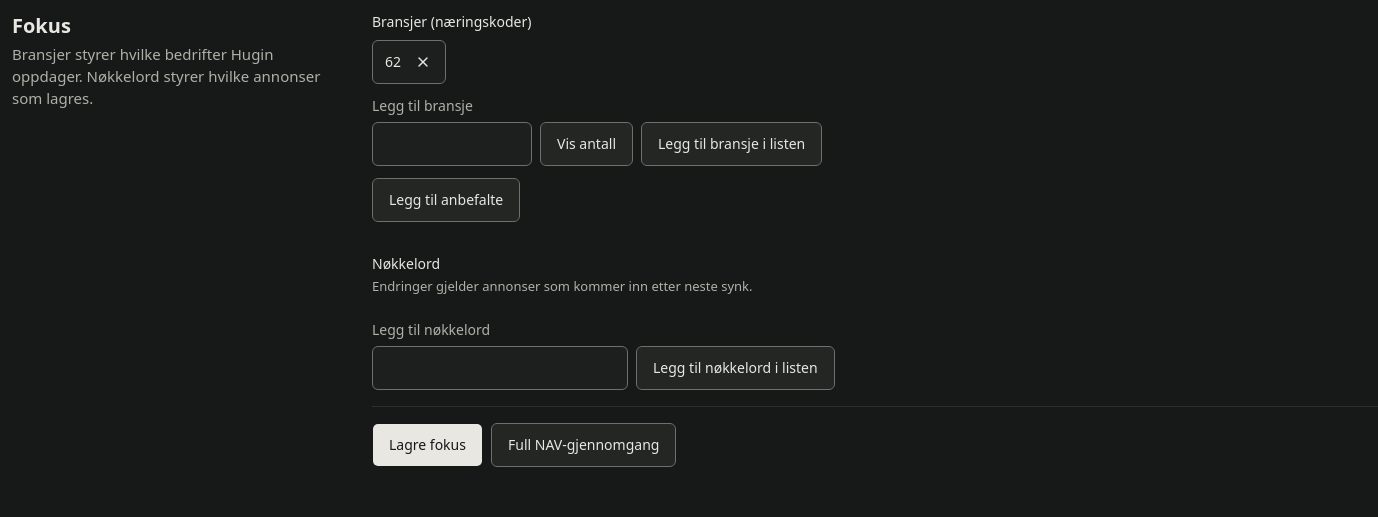
FocusSection › pressing Add on an invalid code shows the same message instead of doing nothing
The image size is (1378, 517).
Type "abc" into the field labelled "Legg til bransje".
click(452, 144); type("abc")  # box [372, 122, 532, 166]
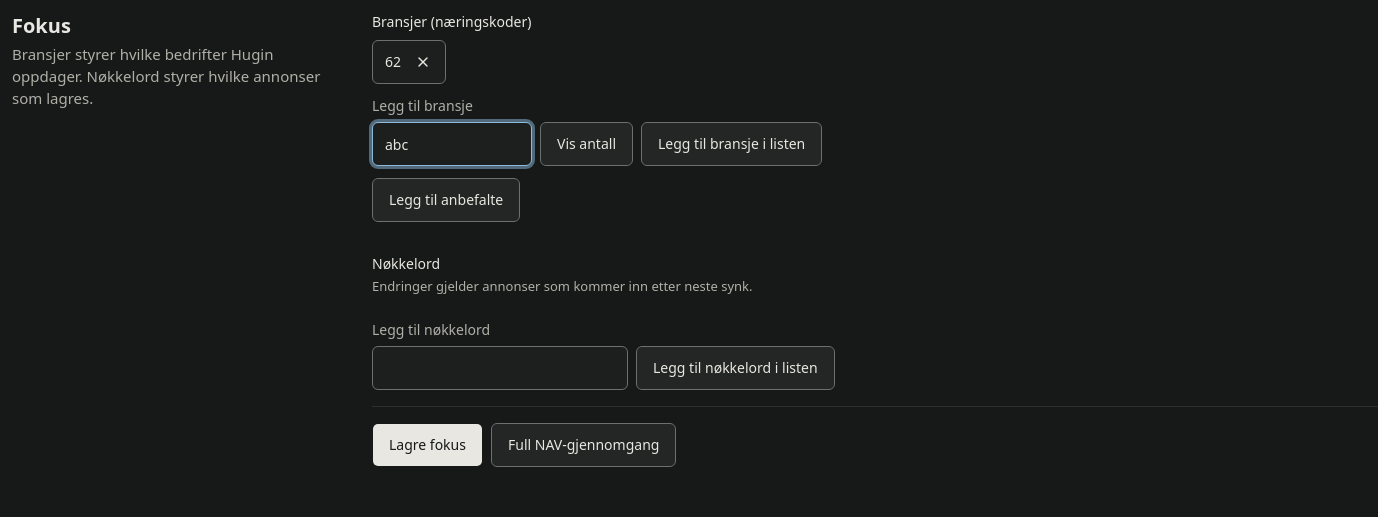
Click the button "Legg til bransje i listen".
click(732, 144)  # box [641, 122, 822, 166]
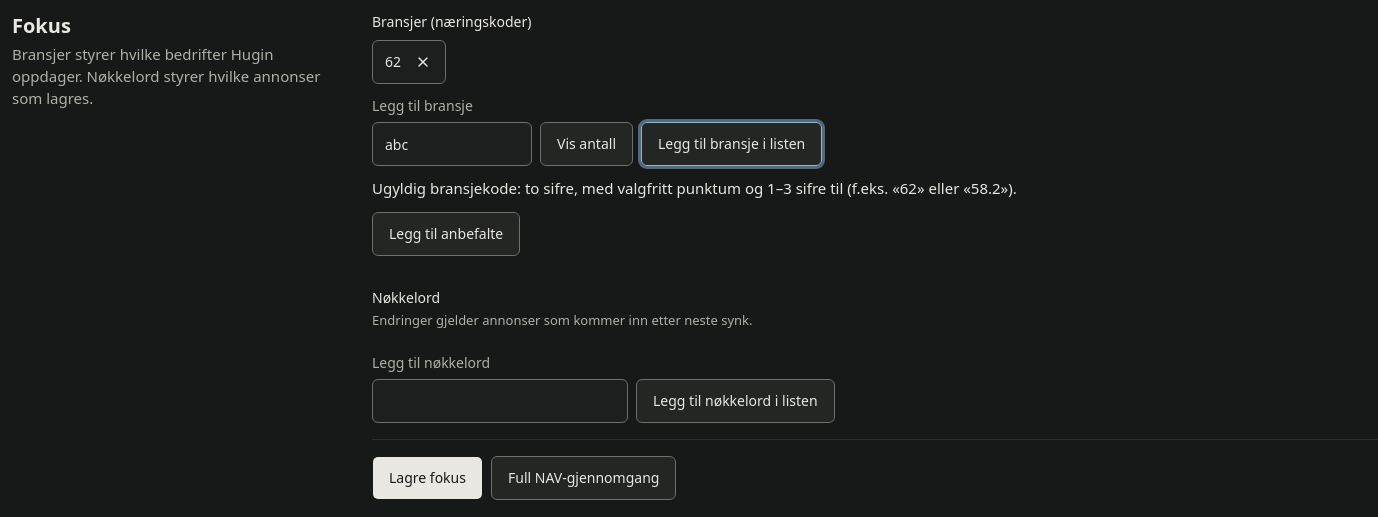
Now the text "Ugyldig bransjekode" is shown, box [372, 178, 1017, 198]
